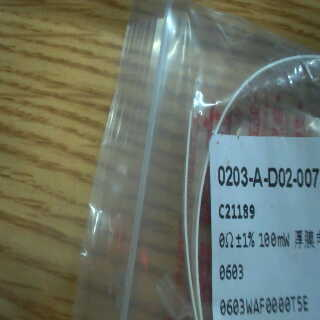0R: (218, 225, 294, 285)
